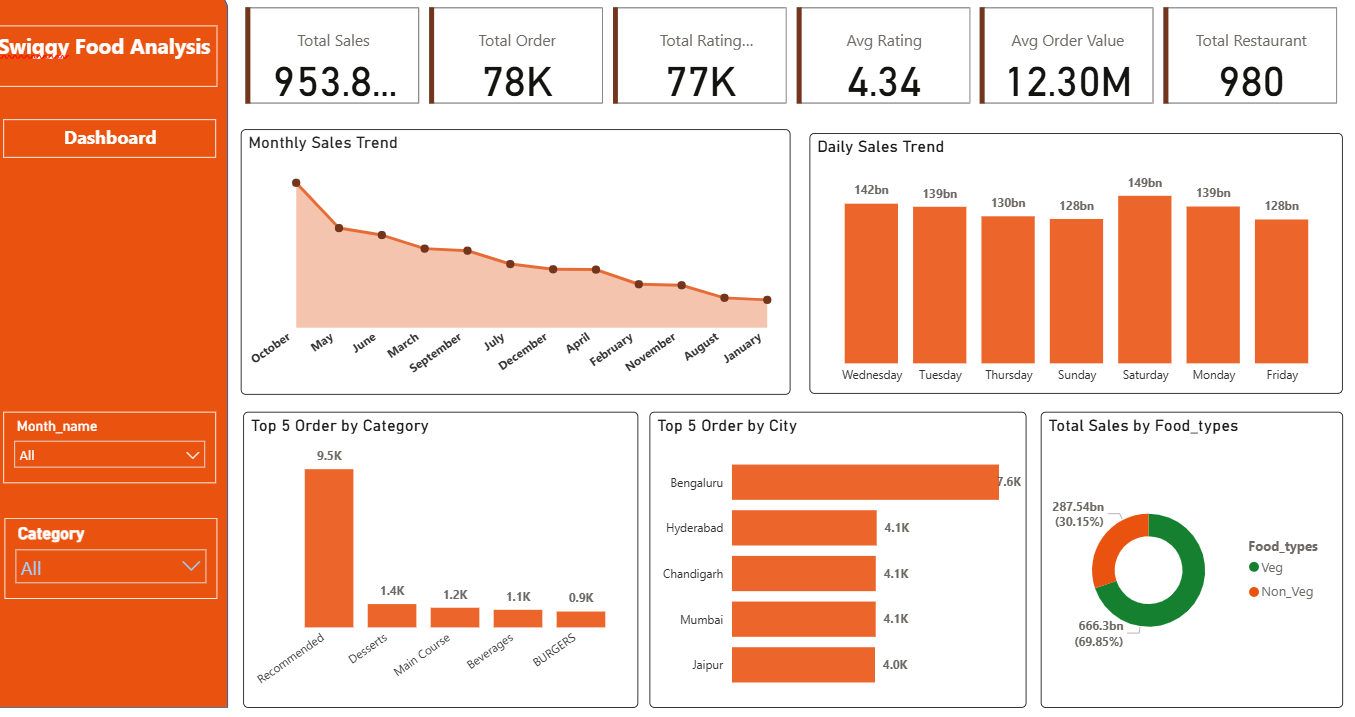

This screenshot's page, from the dashboard's own definition file:
{"tool":"powerbi","page":{"name":"Page 1","canvas":[1400,750],"ordinal":0},"visuals":[{"type":"shape","box":[10.2,10.2,240.7,728.4],"z":0},{"type":"cardVisual","fields":{"Data":["swigyy_foods_dst.Total Sales","swigyy_foods_dst.Total Orders","swigyy_foods_dst.Total Rating Counts","swigyy_foods_dst.Avg Rating","swigyy_foods_dst.Avg Order Value","swigyy_foods_dst.Total Restaurant"]},"box":[263.6,0,1123.1,149],"z":1000},{"type":"areaChart","title":"Monthly Sales Trend","fields":{"Category":["swigyy_foods_dst.Month_name"],"Y":["swigyy_foods_dst.Total Sales"]},"box":[264.2,148.6,559.8,270.2],"z":2000},{"type":"clusteredColumnChart","title":"Top 5 Order by Category","fields":{"Category":["swigyy_foods_dst.Category"],"Y":["swigyy_foods_dst.Total Order"]},"box":[265.7,436.8,402.2,301.7],"z":3000},{"type":"clusteredBarChart","title":"Top 5 Order by City","fields":{"Category":["swigyy_foods_dst.City"],"Y":["swigyy_foods_dst.Total Order"]},"box":[679.9,436.8,384.2,301.7],"z":4000},{"type":"donutChart","fields":{"Category":["swigyy_foods_dst.Food_types"],"Y":["swigyy_foods_dst.Total Sales"]},"box":[1079.1,436.8,307.7,301.7],"z":5000},{"type":"clusteredColumnChart","title":"Daily Sales Trend","fields":{"Category":["swigyy_foods_dst.Day Name"],"Y":["swigyy_foods_dst.Total Sales"]},"box":[843.5,153.1,543.3,265.7],"z":6000},{"type":"slicer","fields":{"Values":["swigyy_foods_dst.Category"]},"box":[22.9,545,216.5,82.8],"z":7000},{"type":"textbox","box":[10.2,43.3,229.2,62.4],"z":8000},{"type":"slicer","fields":{"Values":["swigyy_foods_dst.Month_name"]},"box":[21.6,436.8,216.5,72.6],"z":9000},{"type":"textbox","box":[21.6,138.8,216.5,39.5],"z":9001}]}

Visuals, with their boxes in screenshot pixels (x1, y1, x2, y2), scaled from the page's 1400x750 canvas onto the 1355x717 screenshot:
shape: 10:10:243:706
cardVisual - swigyy_foods_dst.Total Sales x swigyy_foods_dst.Total Orders: 255:0:1342:142
"Monthly Sales Trend" areaChart: 256:142:798:400
"Top 5 Order by Category" clusteredColumnChart: 257:418:646:706
"Top 5 Order by City" clusteredBarChart: 658:418:1030:706
donutChart - swigyy_foods_dst.Food_types x swigyy_foods_dst.Total Sales: 1044:418:1342:706
"Daily Sales Trend" clusteredColumnChart: 816:146:1342:400
slicer - swigyy_foods_dst.Category: 22:521:232:600
textbox: 10:41:232:101
slicer - swigyy_foods_dst.Month_name: 21:418:230:487
textbox: 21:133:230:170
